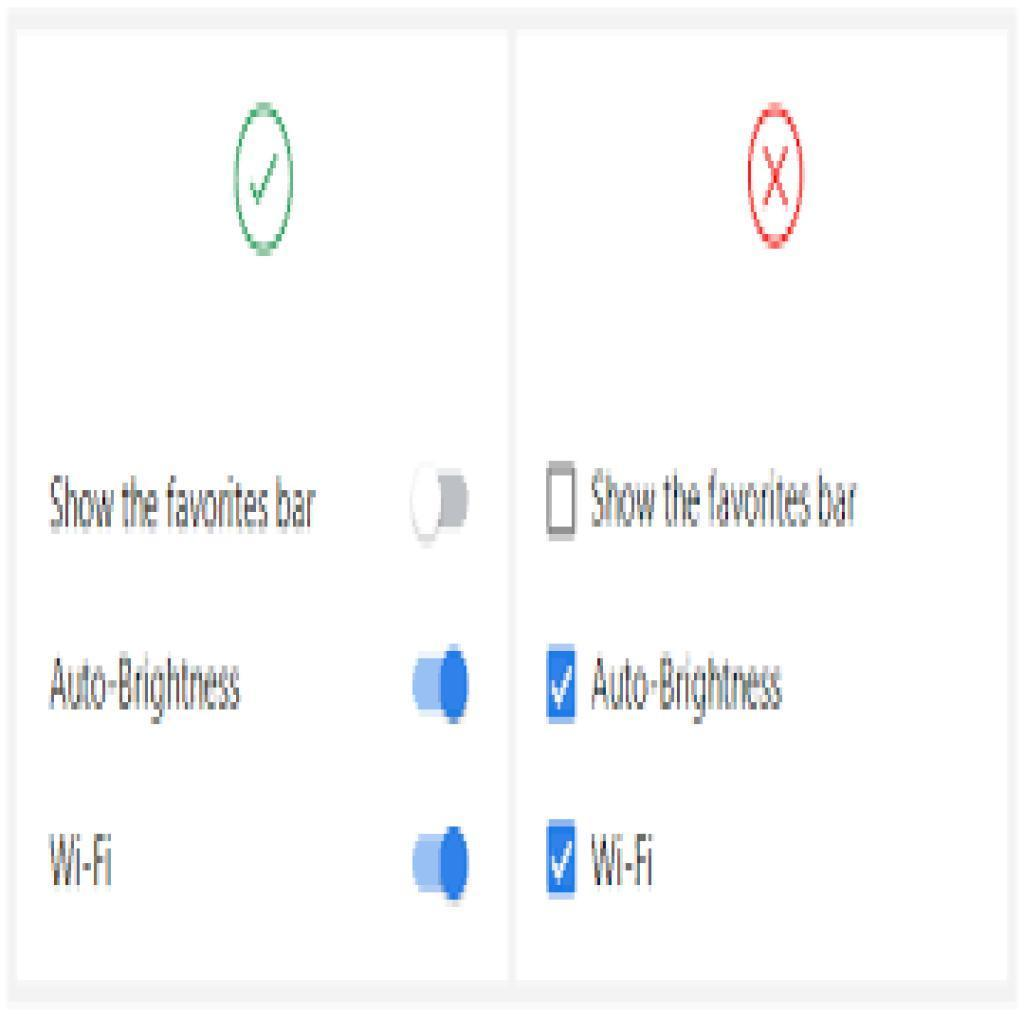checkbox: (546, 646, 578, 722), (546, 465, 579, 537), (547, 820, 577, 897)
switch: (410, 463, 474, 540), (409, 826, 471, 904), (413, 645, 471, 722)
